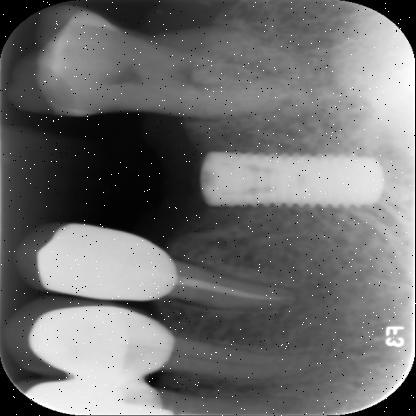ITI: (197, 148, 387, 214)
